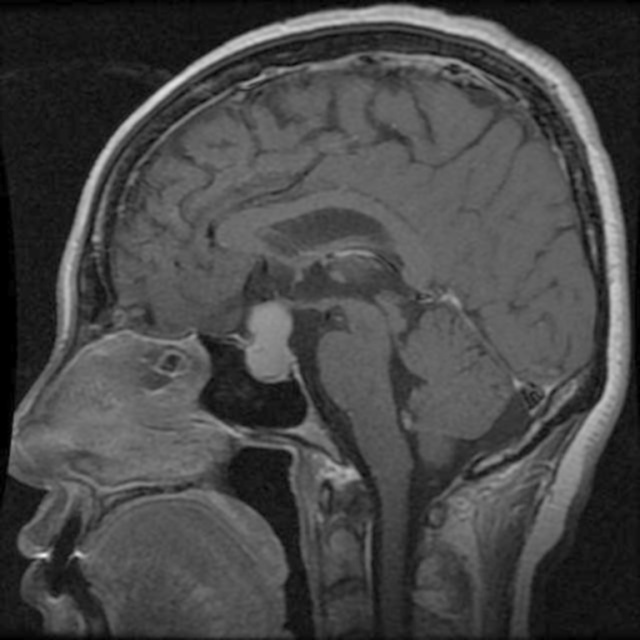no tumor: (238, 301, 302, 385)
